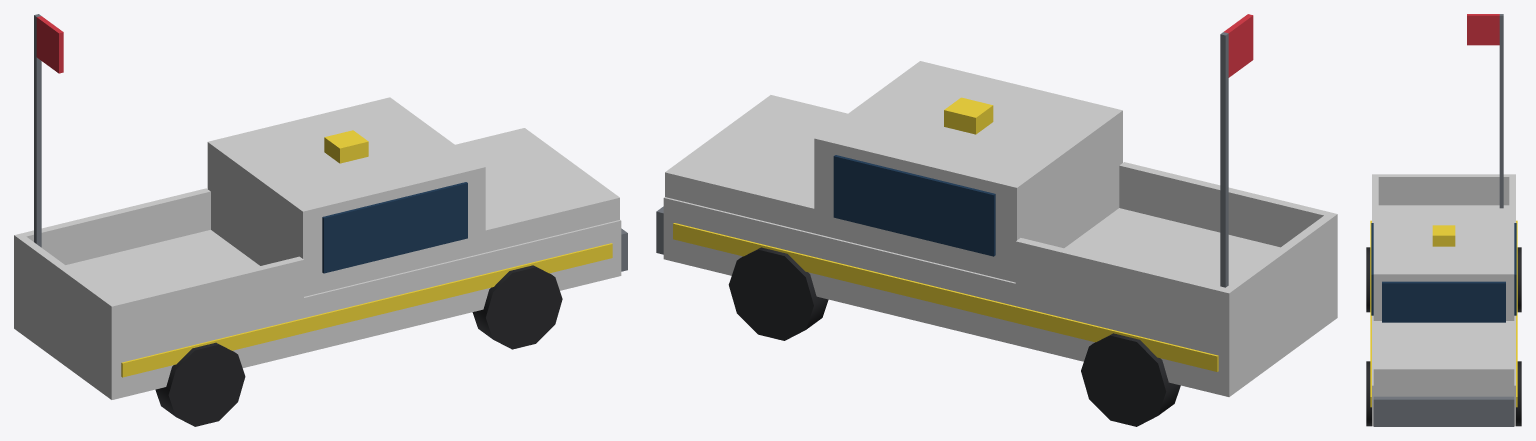
The model's file is site_pickup.fbx.
3 views of the same model, side by side, from view 1: azimuth 30°, elevation 25°; view 2: azimuth 150°, elevation 25°; view 3: azimuth 270°, elevation 25° (orthographic). The views are drawn at different scales.
Visible parts, largest first — view 1: a1089/0/site_pickup; view 2: a1089/0/site_pickup; view 3: a1089/0/site_pickup.
Boxes of the visible parts, x1,y1,x2,y2 form: a1089/0/site_pickup: (14,14,627,426); a1089/0/site_pickup: (656,14,1337,426); a1089/0/site_pickup: (1366,14,1521,426).
Size of the model in its own units: 5.38 by 3.58 by 1.9.
